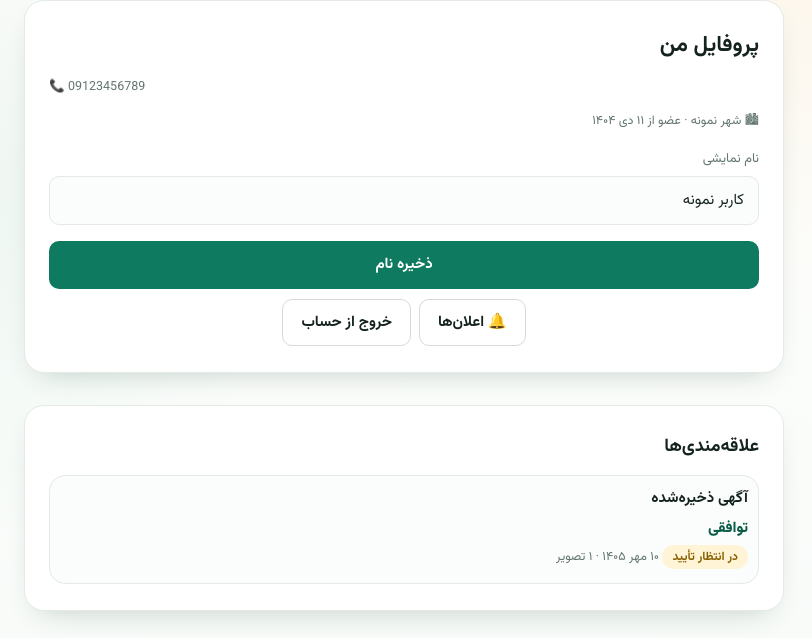
Test: ProfileView › saves an edited display name
Expected: the element with test id "profile-card" is shown, [24,0,784,374]
Replace the text in the field labelled "نام نمایشی" with "نام جدید" at [404, 201], box [49,176,759,226]
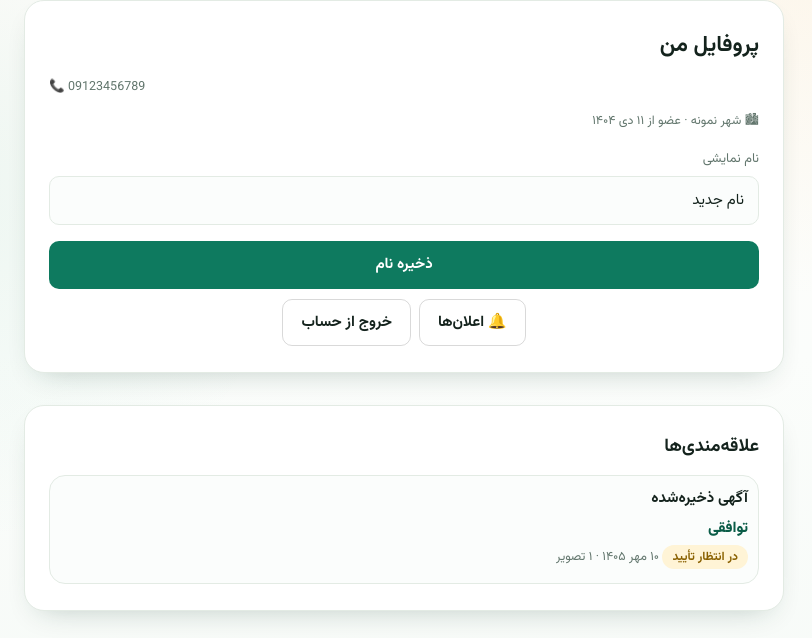
Click the button "ذخیره نام" at [404, 265], box [49,242,759,289]
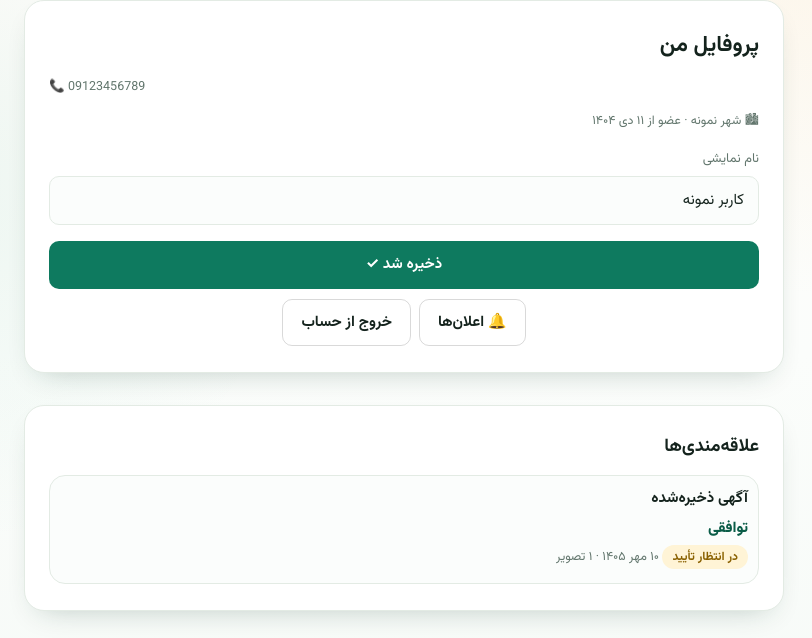
Now the button "ذخیره شد ✓" is shown, box [49,242,759,289]
